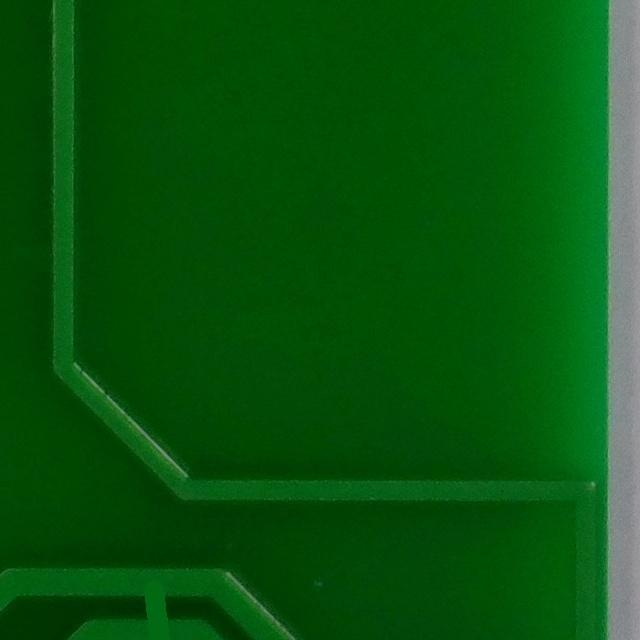short: (110, 552, 194, 640)
